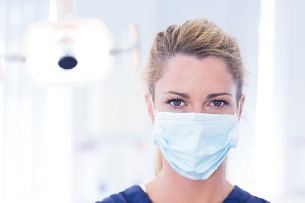Mask: (151, 86, 238, 174)
